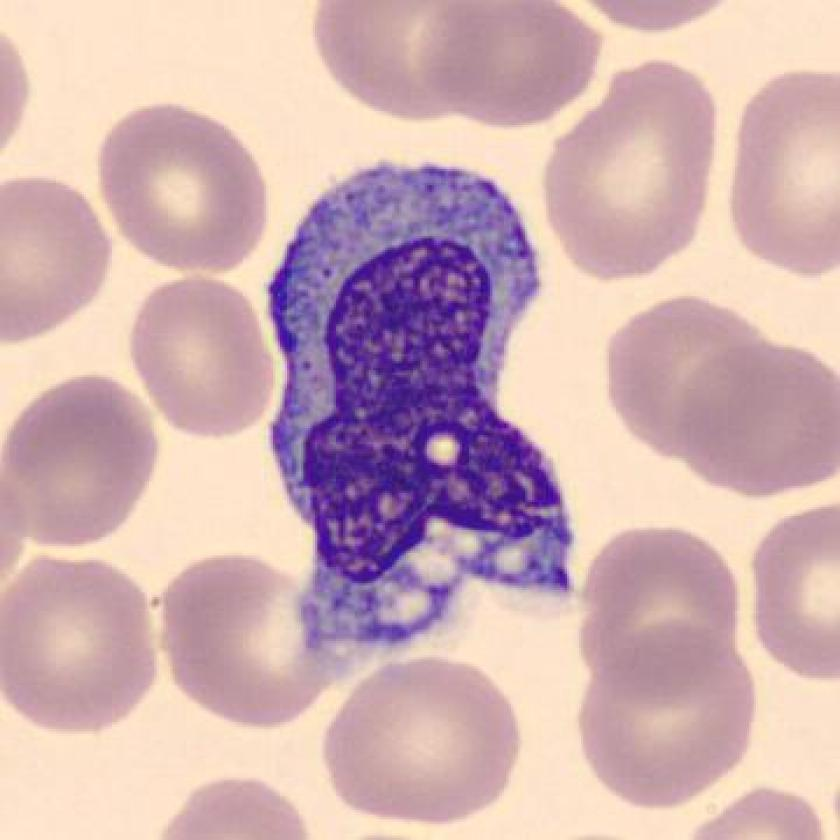monocyte: (239, 122, 608, 696)
